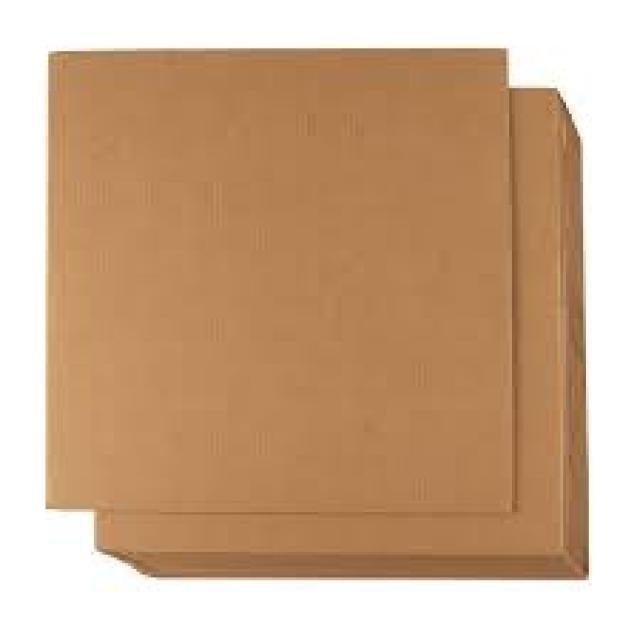Cardboard: (44, 47, 511, 514)
